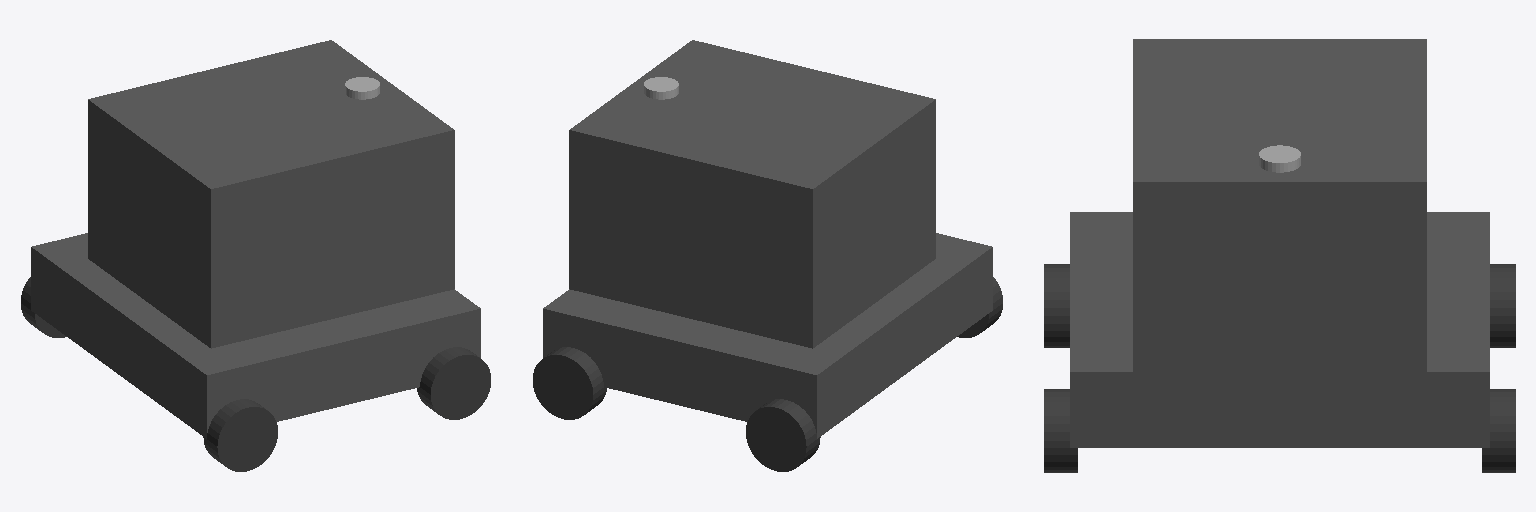
URDF robot description (ur5e_robot):
<?xml version="1.0" ?>
<!-- =================================================================================== -->
<!-- |    This document was autogenerated by xacro from ur5e.xacro                     | -->
<!-- |    EDITING THIS FILE BY HAND IS NOT RECOMMENDED                                 | -->
<!-- =================================================================================== -->
<robot name="ur5e_robot">
  <!--
    Base UR robot series xacro macro.

    NOTE: this is NOT a URDF. It cannot directly be loaded by consumers
    expecting a flattened '.urdf' file. See the top-level '.xacro' for that
    (but note: that .xacro must still be processed by the xacro command).

    For use in '.launch' files: use one of the 'load_urX.launch' convenience
    launch files.

    This file models the base kinematic chain of a UR robot, which then gets
    parameterised by various configuration files to convert it into a UR3(e),
    UR5(e), UR10(e) or UR16e.

    NOTE: the default kinematic parameters (ie: link lengths, frame locations,
    offets, etc) do not correspond to any particular robot. They are defaults
    only. There WILL be non-zero offsets between the Forward Kinematics results
    in TF (ie: robot_state_publisher) and the values reported by the Teach
    Pendant.

    For accurate (and robot-specific) transforms, the 'kinematics_parameters_file'
    parameter MUST point to a .yaml file containing the appropriate values for
    the targetted robot.

    If using the UniversalRobots/Universal_Robots_ROS_Driver, follow the steps
    described in the readme of that repository to extract the kinematic
    calibration from the controller and generate the required .yaml file.

    Main author of the migration to yaml configs: [author].

    Contributors to previous versions (in no particular order):

     - [author]
     - [author]
     - [author]
     - [author]
     - [author]
     - [author]
     - [author]
     - [author]
     - [author]
     - [author]
     - [author]
     - [author]
     - [author]
     - [author]
     - [author]
     - [author]
     - [author]
  -->
  <!--
    NOTE: the macro defined in this file is NOT part of the public API of this
          package. Users CANNOT rely on this file being available, or stored in
          this location. Nor can they rely on the existence of the macro.
  -->
  <transmission name="shoulder_pan_trans">
    <type>transmission_interface/SimpleTransmission</type>
    <joint name="shoulder_pan_joint">
      <hardwareInterface>hardware_interface/PositionJointInterface</hardwareInterface>
    </joint>
    <actuator name="shoulder_pan_motor">
      <mechanicalReduction>1</mechanicalReduction>
    </actuator>
  </transmission>
  <transmission name="shoulder_lift_trans">
    <type>transmission_interface/SimpleTransmission</type>
    <joint name="shoulder_lift_joint">
      <hardwareInterface>hardware_interface/PositionJointInterface</hardwareInterface>
    </joint>
    <actuator name="shoulder_lift_motor">
      <mechanicalReduction>1</mechanicalReduction>
    </actuator>
  </transmission>
  <transmission name="elbow_trans">
    <type>transmission_interface/SimpleTransmission</type>
    <joint name="elbow_joint">
      <hardwareInterface>hardware_interface/PositionJointInterface</hardwareInterface>
    </joint>
    <actuator name="elbow_motor">
      <mechanicalReduction>1</mechanicalReduction>
    </actuator>
  </transmission>
  <transmission name="wrist_1_trans">
    <type>transmission_interface/SimpleTransmission</type>
    <joint name="wrist_1_joint">
      <hardwareInterface>hardware_interface/PositionJointInterface</hardwareInterface>
    </joint>
    <actuator name="wrist_1_motor">
      <mechanicalReduction>1</mechanicalReduction>
    </actuator>
  </transmission>
  <transmission name="wrist_2_trans">
    <type>transmission_interface/SimpleTransmission</type>
    <joint name="wrist_2_joint">
      <hardwareInterface>hardware_interface/PositionJointInterface</hardwareInterface>
    </joint>
    <actuator name="wrist_2_motor">
      <mechanicalReduction>1</mechanicalReduction>
    </actuator>
  </transmission>
  <transmission name="wrist_3_trans">
    <type>transmission_interface/SimpleTransmission</type>
    <joint name="wrist_3_joint">
      <hardwareInterface>hardware_interface/PositionJointInterface</hardwareInterface>
    </joint>
    <actuator name="wrist_3_motor">
      <mechanicalReduction>1</mechanicalReduction>
    </actuator>
  </transmission>
  <!-- links: added mobile base -->
  <link name="link_footprint" />    
  
  <joint name="footprint-cart" type="fixed">
    <parent link="link_footprint"/>
    <child link="cart_link"/>    
    <origin rpy="0 0 0" xyz="0 0 0.1"/>
  </joint>
  
  <link name="cart_link">
    <visual>
      <origin rpy="0 0 0" xyz="-0.35 0 0.1"/>
      <geometry>
        <box size="0.9 1.0 0.2"/>
      </geometry>
      <material name="light_black">
        <color rgba="0.4 0.4 0.4 1.0"/>
      </material>
    </visual>
  </link>
  
  <joint name="cart-cabin" type="fixed">
    <parent link="cart_link"/>
    <child link="cabin_link"/>    
    <origin rpy="0 0 0" xyz="0 0 0.2"/>
  </joint>
  
  <link name="cabin_link">
    <visual>
      <origin rpy="0 0 0" xyz="-0.3 0 0.25"/>
      <geometry>
        <box size="0.8 0.7 0.5"/>
      </geometry>
      <material name="light_black">
        <color rgba="0.4 0.4 0.4 1.0"/>
      </material>
    </visual>
  </link>
  
  <joint name="cabin-base" type="fixed">
    <parent link="cabin_link"/>
    <child link="base_link"/>    
    <origin rpy="0 0 0" xyz="0 0 0.5"/>
  </joint>
  
  <joint name="cart-frontrightWhl" type="continuous">
    <parent link="cart_link"/>
    <child link="frontrightWhl_link"/>    
    <origin rpy="1.571 0 0" xyz="0 -0.5 0"/>
  </joint>
  
  <joint name="cart-rearrightWhl" type="continuous">
    <parent link="cart_link"/>
    <child link="rearrightWhl_link"/>    
    <origin rpy="1.571 0 0" xyz="-0.7 -0.5 0"/>
  </joint>
  
  <joint name="cart-frontleftWhl" type="continuous">
    <parent link="cart_link"/>
    <child link="frontleftWhl_link"/>    
    <origin rpy="-1.571 0 0" xyz="0 0.5 0"/>
  </joint>
  
  <joint name="cart-rearleftWhl" type="continuous">
    <parent link="cart_link"/>
    <child link="rearleftWhl_link"/>    
    <origin rpy="-1.571 0 0" xyz="-0.7 0.5 0"/>
  </joint>
  
  <link name="frontrightWhl_link">
    <visual>
      <origin rpy="0 0 0" xyz="0 0 0.02"/>
      <geometry>
        <cylinder length="0.08" radius="0.1"/>
      </geometry>
      <material name="dark">
        <color rgba="0.3 0.3 0.3 1.0"/>
      </material>
    </visual>
  </link>
  
  <link name="rearrightWhl_link">
    <visual>
      <origin rpy="0 0 0" xyz="0 0 0.02"/>
      <geometry>
        <cylinder length="0.08" radius="0.1"/>
      </geometry>
      <material name="dark">
        <color rgba="0.3 0.3 0.3 1.0"/>
      </material>
    </visual>
  </link>
  
  <link name="frontleftWhl_link">
    <visual>
      <origin rpy="0 0 0" xyz="0 0 0.02"/>
      <geometry>
        <cylinder length="0.08" radius="0.1"/>
      </geometry>
      <material name="dark">
        <color rgba="0.3 0.3 0.3 1.0"/>
      </material>
    </visual>
  </link>
  
  <link name="rearleftWhl_link">
    <visual>
      <origin rpy="0 0 0" xyz="0 0 0.02"/>
      <geometry>
        <cylinder length="0.08" radius="0.1"/>
      </geometry>
      <material name="dark">
        <color rgba="0.3 0.3 0.3 1.0"/>
      </material>
    </visual>
  </link>
  
  <!-- links: main serial chain -->
  <link name="base_link">
    <visual>
      <origin rpy="0 0 0" xyz="0 0 0"/>
      <geometry>
        <cylinder length="0.05" radius="0.05"/>
      </geometry>
      <material name="LightGrey">
        <color rgba="0.7 0.7 0.7 1.0"/>
      </material>
    </visual>
  </link>

  <link name="base_link_inertia">
    <visual>
      <origin rpy="0 0 3.141592653589793" xyz="0 0 0"/>
      <geometry>
        <mesh filename="[local-path]/jChen_RobAvatar/RobAvatar/Project0.2/urdf_models/ur5e/visual/base.stl" scale="1 1 1"/>
      </geometry>
      <material name="LightGrey">
        <color rgba="0.7 0.7 0.7 1.0"/>
      </material>
    </visual>
    <collision>
      <origin rpy="0 0 3.141592653589793" xyz="0 0 0"/>
      <geometry>
        <mesh filename="[local-path]/jChen_RobAvatar/RobAvatar/Project0.2/urdf_models/ur5e/collision/base.stl" scale="1 1 1"/>
      </geometry>
    </collision>
    <inertial>
      <mass value="4.0"/>
      <origin rpy="0 0 0" xyz="0 0 0"/>
      <inertia ixx="0.00443333156" ixy="0.0" ixz="0.0" iyy="0.00443333156" iyz="0.0" izz="0.0072"/>
    </inertial>
  </link>

  <link name="shoulder_link">
    <visual>
      <origin rpy="0 0 3.141592653589793" xyz="0 0 0"/>
      <geometry>
        <mesh filename="[local-path]/jChen_RobAvatar/RobAvatar/Project0.2/urdf_models/ur5e/visual/shoulder.stl" scale="1 1 1"/>
      </geometry>
      <material name="LightGrey">
        <color rgba="0.7 0.7 0.7 1.0"/>
      </material>
    </visual>
    <collision>
      <origin rpy="0 0 3.141592653589793" xyz="0 0 0"/>
      <geometry>
        <mesh filename="[local-path]/jChen_RobAvatar/RobAvatar/Project0.2/urdf_models/ur5e/collision/shoulder.stl" scale="1 1 1"/>
      </geometry>
    </collision>
    <inertial>
      <mass value="3.7"/>
      <origin rpy="0 0 0" xyz="0 0 0"/>
      <inertia ixx="0.010267495893" ixy="0.0" ixz="0.0" iyy="0.010267495893" iyz="0.0" izz="0.00666"/>
    </inertial>
  </link>

  <link name="upper_arm_link">
    <visual>
      <origin rpy="1.5707963267948966 0 -1.5707963267948966" xyz="0 0 0.138"/>
      <geometry>
        <mesh filename="[local-path]/jChen_RobAvatar/RobAvatar/Project0.2/urdf_models/ur5e/visual/upperarm.stl" scale="1 1 1"/>
      </geometry>
      <material name="LightGrey">
        <color rgba="0.7 0.7 0.7 1.0"/>
      </material>
    </visual>
    <collision>
      <origin rpy="1.5707963267948966 0 -1.5707963267948966" xyz="0 0 0.138"/>
      <geometry>
        <mesh filename="[local-path]/jChen_RobAvatar/RobAvatar/Project0.2/urdf_models/ur5e/collision/upperarm.stl" scale="1 1 1"/>
      </geometry>
    </collision>
    <inertial>
      <mass value="8.393"/>
      <origin rpy="0 1.5707963267948966 0" xyz="-0.2125 0.0 0.138"/>
      <inertia ixx="0.1338857818623325" ixy="0.0" ixz="0.0" iyy="0.1338857818623325" iyz="0.0" izz="0.0151074"/>
    </inertial>
  </link>

  <link name="forearm_link">
    <visual>
      <origin rpy="1.5707963267948966 0 -1.5707963267948966" xyz="0 0 0.007"/>
      <geometry>
        <mesh filename="[local-path]/jChen_RobAvatar/RobAvatar/Project0.2/urdf_models/ur5e/visual/forearm.stl" scale="1 1 1"/>
      </geometry>
      <material name="LightGrey">
        <color rgba="0.7 0.7 0.7 1.0"/>
      </material>
    </visual>
    <collision>
      <origin rpy="1.5707963267948966 0 -1.5707963267948966" xyz="0 0 0.007"/>
      <geometry>
        <mesh filename="[local-path]/jChen_RobAvatar/RobAvatar/Project0.2/urdf_models/ur5e/collision/forearm.stl" scale="1 1 1"/>
      </geometry>
    </collision>
    <inertial>
      <mass value="2.275"/>
      <origin rpy="0 1.5707963267948966 0" xyz="-0.1961 0.0 0.007"/>
      <inertia ixx="0.031209355099586295" ixy="0.0" ixz="0.0" iyy="0.031209355099586295" iyz="0.0" izz="0.004095"/>
    </inertial>
  </link>

  <link name="wrist_1_link">
    <visual>
      <!-- TODO: Move this to a parameter -->
      <origin rpy="1.5707963267948966 0 0" xyz="0 0 -0.127"/>
      <geometry>
        <mesh filename="[local-path]/jChen_RobAvatar/RobAvatar/Project0.2/urdf_models/ur5e/visual/wrist1.stl" scale="1 1 1"/>
      </geometry>
      <material name="LightGrey">
        <color rgba="0.7 0.7 0.7 1.0"/>
      </material>
    </visual>
    <collision>
      <origin rpy="1.5707963267948966 0 0" xyz="0 0 -0.127"/>
      <geometry>
        <mesh filename="[local-path]/jChen_RobAvatar/RobAvatar/Project0.2/urdf_models/ur5e/collision/wrist1.stl" scale="1 1 1"/>
      </geometry>
    </collision>
    <inertial>
      <mass value="1.219"/>
      <origin rpy="0 0 0" xyz="0 0 0"/>
      <inertia ixx="0.0025598989760400002" ixy="0.0" ixz="0.0" iyy="0.0025598989760400002" iyz="0.0" izz="0.0021942"/>
    </inertial>
  </link>

  <link name="wrist_2_link">
    <visual>
      <origin rpy="0 0 0" xyz="0 0 -0.0997"/>
      <geometry>
        <mesh filename="[local-path]/jChen_RobAvatar/RobAvatar/Project0.2/urdf_models/ur5e/visual/wrist2.stl" scale="1 1 1"/>
      </geometry>
      <material name="LightGrey">
        <color rgba="0.7 0.7 0.7 1.0"/>
      </material>
    </visual>
    <collision>
      <origin rpy="0 0 0" xyz="0 0 -0.0997"/>
      <geometry>
        <mesh filename="[local-path]/jChen_RobAvatar/RobAvatar/Project0.2/urdf_models/ur5e/collision/wrist2.stl" scale="1 1 1"/>
      </geometry>
    </collision>
    <inertial>
      <mass value="1.219"/>
      <origin rpy="0 0 0" xyz="0 0 0"/>
      <inertia ixx="0.0025598989760400002" ixy="0.0" ixz="0.0" iyy="0.0025598989760400002" iyz="0.0" izz="0.0021942"/>
    </inertial>
  </link>

  <link name="wrist_3_link">
    <visual>
      <origin rpy="1.5707963267948966 0 0" xyz="0 0 -0.0989"/>
      <geometry>
        <mesh filename="[local-path]/jChen_RobAvatar/RobAvatar/Project0.2/urdf_models/ur5e/visual/wrist3.stl" scale="1 1 1"/>
      </geometry>
      <material name="LightGrey">
        <color rgba="0.7 0.7 0.7 1.0"/>
      </material>
    </visual>
    <collision>
      <origin rpy="1.5707963267948966 0 0" xyz="0 0 -0.0989"/>
      <geometry>
        <mesh filename="[local-path]/jChen_RobAvatar/RobAvatar/Project0.2/urdf_models/ur5e/collision/wrist3.stl" scale="1 1 1"/>
      </geometry>
    </collision>
    <inertial>
      <mass value="0.1879"/>
      <origin rpy="0 0 0" xyz="0.0 0.0 -0.0229"/>
      <inertia ixx="9.890410052167731e-05" ixy="0.0" ixz="0.0" iyy="9.890410052167731e-05" iyz="0.0" izz="0.0001321171875"/>
    </inertial>
  </link>
  <!-- joints: main serial chain -->
  <joint name="base_link-base_link_inertia" type="fixed">
    <parent link="base_link"/>
    <child link="base_link_inertia"/>
    <!-- 'base_link' is REP-103 aligned (so X+ forward), while the internal
           frames of the robot/controller have X+ pointing backwards.
           Use the joint between 'base_link' and 'base_link_inertia' (a dummy
           link/frame) to introduce the necessary rotation over Z (of pi rad).
      -->
    <origin rpy="0 0 3.141592653589793" xyz="0 0 0"/>
  </joint>

  <joint name="shoulder_pan_joint" type="revolute">
    <parent link="base_link_inertia"/>
    <child link="shoulder_link"/>
    <origin rpy="0 0 0" xyz="0 0 0.1625"/>
    <axis xyz="0 0 1"/>
    <limit effort="150.0" lower="-6.283185307179586" upper="6.283185307179586" velocity="3.141592653589793"/>
    <dynamics damping="0" friction="0"/>
  </joint>

  <joint name="shoulder_lift_joint" type="revolute">
    <parent link="shoulder_link"/>
    <child link="upper_arm_link"/>
    <origin rpy="1.570796327 2.170796327 0" xyz="0 0 0"/>
    <axis xyz="0 0 1"/>
    <limit effort="150.0" lower="-6.283185307179586" upper="6.283185307179586" velocity="3.141592653589793"/>
    <dynamics damping="0" friction="0"/>
  </joint>

  <joint name="elbow_joint" type="revolute">
    <parent link="upper_arm_link"/>
    <child link="forearm_link"/>
    <origin rpy="0 0 0.78" xyz="-0.425 0 0"/>
    <axis xyz="0 0 1"/>
    <limit effort="150.0" lower="-3.141592653589793" upper="3.141592653589793" velocity="3.141592653589793"/>
    <dynamics damping="0" friction="0"/>
  </joint>

  <joint name="wrist_1_joint" type="revolute">
    <parent link="forearm_link"/>
    <child link="wrist_1_link"/>
    <origin rpy="0 0 0.35" xyz="-0.3922 0 0.1333"/>
    <axis xyz="0 0 1"/>
    <limit effort="28.0" lower="-6.283185307179586" upper="6.283185307179586" velocity="3.141592653589793"/>
    <dynamics damping="0" friction="0"/>
  </joint>

  <joint name="wrist_2_joint" type="revolute">
    <parent link="wrist_1_link"/>
    <child link="wrist_2_link"/>
    <origin rpy="1.570796327 0 0" xyz="0 -0.0997 -2.044881182297852e-11"/>
    <axis xyz="0 0 1"/>
    <limit effort="28.0" lower="-6.283185307179586" upper="6.283185307179586" velocity="3.141592653589793"/>
    <dynamics damping="0" friction="0"/>
  </joint>

  <joint name="wrist_3_joint" type="revolute">
    <parent link="wrist_2_link"/>
    <child link="wrist_3_link"/>
    <origin rpy="1.570796326589793 3.141592653589793 3.141592653589793" xyz="0 0.0996 -2.042830148012698e-11"/>
    <axis xyz="0 0 1"/>
    <limit effort="28.0" lower="-6.283185307179586" upper="6.283185307179586" velocity="3.141592653589793"/>
    <dynamics damping="0" friction="0"/>
  </joint>

</robot>

--- What the picture shows (computed from the rendered views, not written in the file) ---
3 views of the same robot in one strip: view 1: azimuth 30°, elevation 25°; view 2: azimuth 150°, elevation 25°; view 3: azimuth 270°, elevation 25° (orthographic).
Model ur5e_robot with 15 links and 14 joints (6 revolute, 4 continuous, 4 fixed), rooted at link_footprint, posed every joint at zero.
Links seen in each view (by area): view 1: cabin_link, cart_link, rearrightWhl_link, frontrightWhl_link, rearleftWhl_link, base_link; view 2: cabin_link, cart_link, rearleftWhl_link, frontleftWhl_link, rearrightWhl_link, base_link; view 3: cabin_link, cart_link, frontrightWhl_link, frontleftWhl_link, rearrightWhl_link, rearleftWhl_link, base_link.
Boxes of the visible links, x1,y1,x2,y2 form: cabin_link: (88, 40, 454, 348); cart_link: (31, 233, 480, 438); rearrightWhl_link: (203, 399, 277, 471); frontrightWhl_link: (417, 347, 490, 419); rearleftWhl_link: (21, 277, 66, 337); base_link: (345, 77, 379, 99); cabin_link: (569, 40, 935, 348); cart_link: (543, 233, 992, 438); rearleftWhl_link: (746, 399, 820, 471); frontleftWhl_link: (533, 347, 606, 419); rearrightWhl_link: (957, 277, 1002, 337); base_link: (644, 77, 678, 99); cabin_link: (1133, 39, 1426, 371); cart_link: (1070, 212, 1489, 447); frontrightWhl_link: (1044, 389, 1077, 472); frontleftWhl_link: (1482, 389, 1515, 472); rearrightWhl_link: (1044, 264, 1069, 347); rearleftWhl_link: (1490, 264, 1515, 347); base_link: (1259, 145, 1300, 172).
Bounding box of the posed robot: 0.9 × 1.12 × 0.825 m (x, y, z).
Geometry: only primitive shapes (box / cylinder / sphere) drawn; not drawn: 7 mesh visuals (reference in a form the renderer does not follow).
